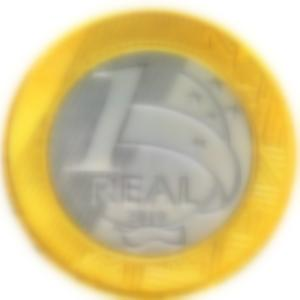1 real: (1, 6, 298, 299)
